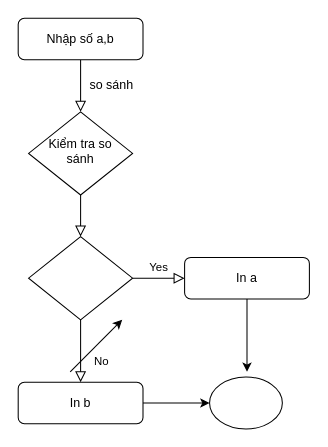
The diagram is 328 pixels wide and 447 high, and some of its shapes have lost their labels. The box of each missing label's shape, as (x1, y1, x2, y2) in pixels:
a < b (so sánh nhỏ hơn): (28, 236, 133, 320)
Kết thúc ct.: (209, 376, 282, 429)
